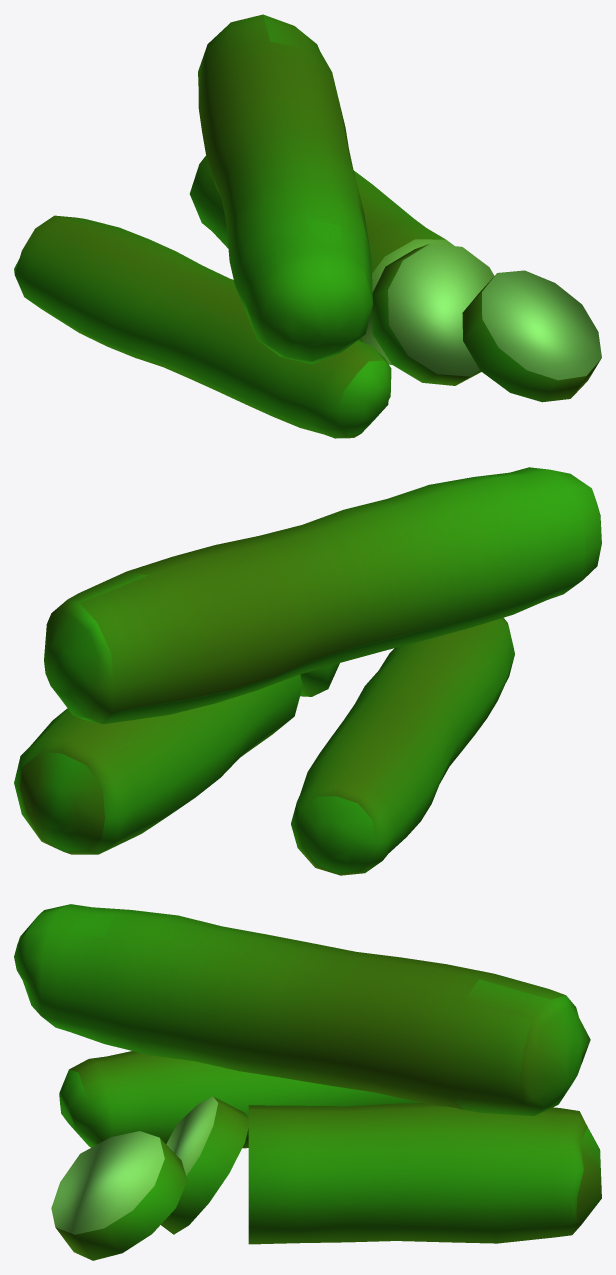
The model's file is Supermarket_Run_Cucumber.fbx.
3 renders of one model, top to bottom at view 1: azimuth 30°, elevation 25°; view 2: azimuth 150°, elevation 25°; view 3: azimuth 270°, elevation 25°, orthographic. The views are drawn at different scales.
Visible parts, largest first — view 1: Cucumber_03, Cucumber_02, Cucumber_05, Cucumber_04, Cucumber; view 2: Cucumber_03, Cucumber_02, Cucumber, Cucumber_04; view 3: Cucumber_03, Cucumber, Cucumber_02, Cucumber_05, Cucumber_04.
Part boxes in pixels (x1=…): Cucumber_03: x1=198, y1=14, x2=372, y2=364; Cucumber_02: x1=14, y1=215, x2=391, y2=438; Cucumber_05: x1=462, y1=270, x2=601, y2=402; Cucumber_04: x1=371, y1=243, x2=494, y2=385; Cucumber: x1=189, y1=155, x2=454, y2=364; Cucumber_03: x1=44, y1=467, x2=601, y2=724; Cucumber_02: x1=291, y1=617, x2=514, y2=875; Cucumber: x1=14, y1=674, x2=302, y2=854; Cucumber_04: x1=300, y1=663, x2=339, y2=696; Cucumber_03: x1=14, y1=904, x2=590, y2=1115; Cucumber: x1=248, y1=1103, x2=601, y2=1244; Cucumber_02: x1=59, y1=1051, x2=422, y2=1148; Cucumber_05: x1=51, y1=1131, x2=187, y2=1260; Cucumber_04: x1=161, y1=1096, x2=248, y2=1234.
Bounding box in the file's own units: 91.74 × 57.46 × 124.
